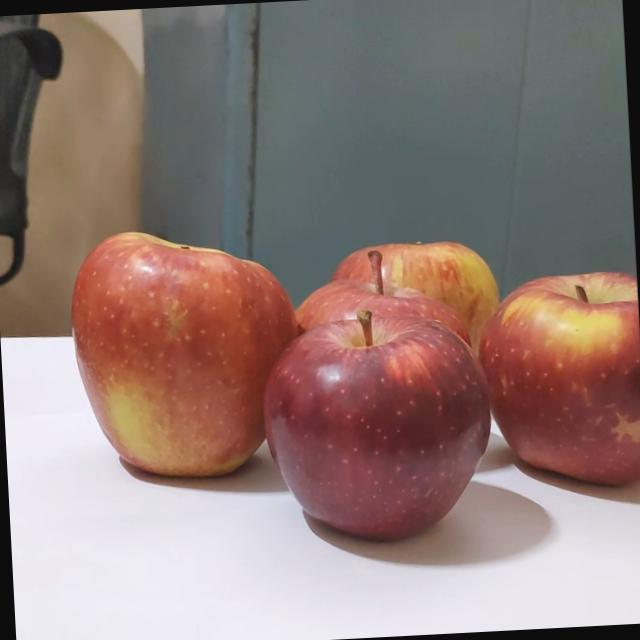apple: (64, 236, 284, 482), (252, 314, 474, 546), (459, 268, 640, 485), (280, 246, 458, 464), (296, 245, 458, 430)
